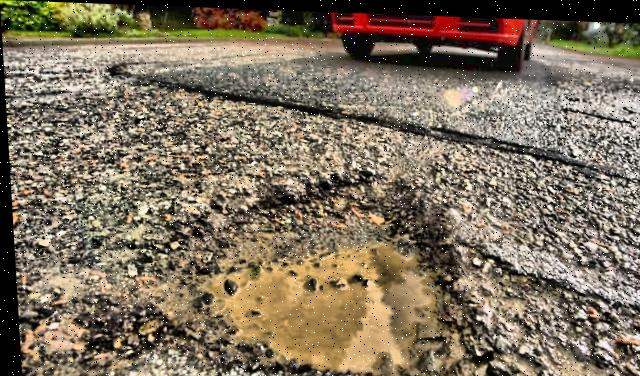pothole: (187, 164, 474, 376)
